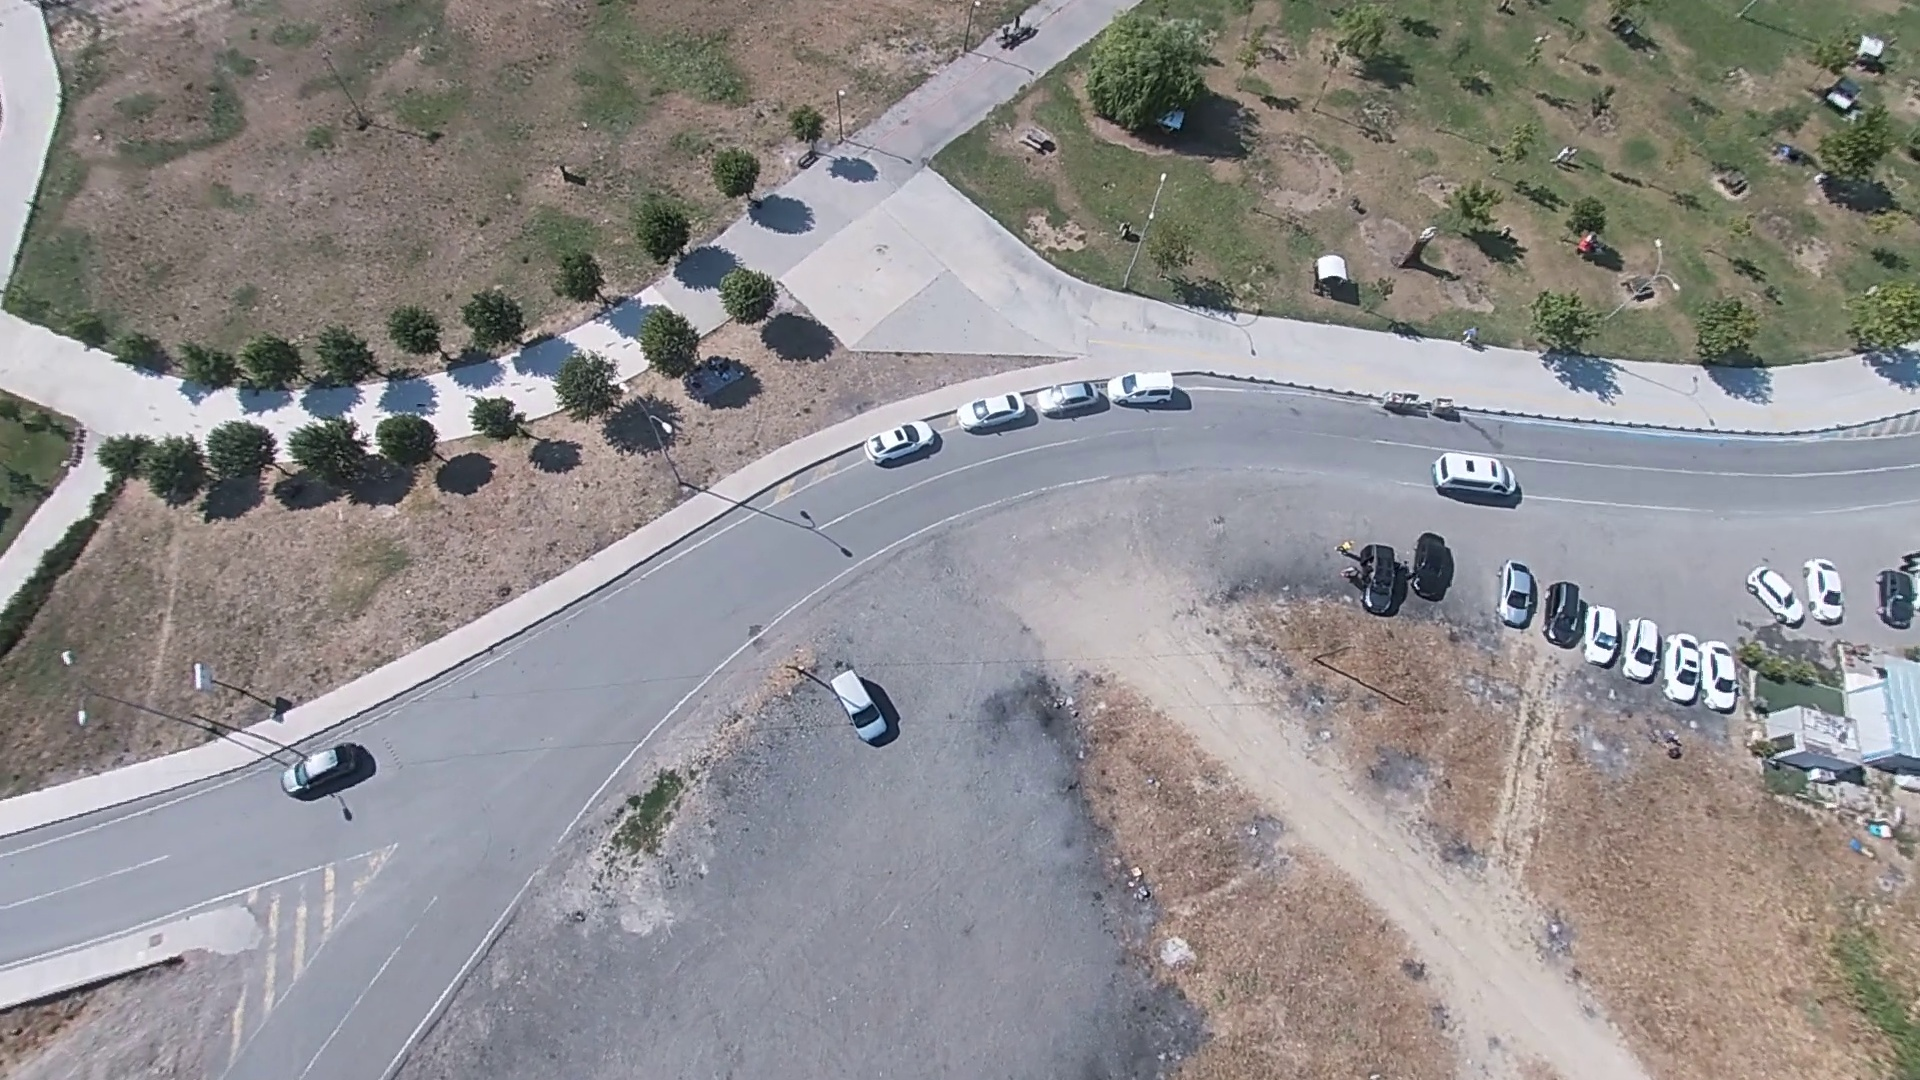araba: (1429, 444, 1528, 506), (276, 740, 373, 802), (828, 665, 895, 742), (866, 415, 948, 469), (1404, 530, 1458, 603), (1702, 629, 1749, 709), (1106, 364, 1191, 407), (956, 385, 1031, 434), (1617, 611, 1667, 682), (1577, 597, 1629, 665), (1036, 375, 1105, 425), (1663, 633, 1710, 702), (1538, 578, 1584, 647), (1742, 564, 1800, 620), (1356, 546, 1400, 615), (1801, 559, 1846, 626), (1505, 559, 1545, 629), (1875, 564, 1913, 630)
